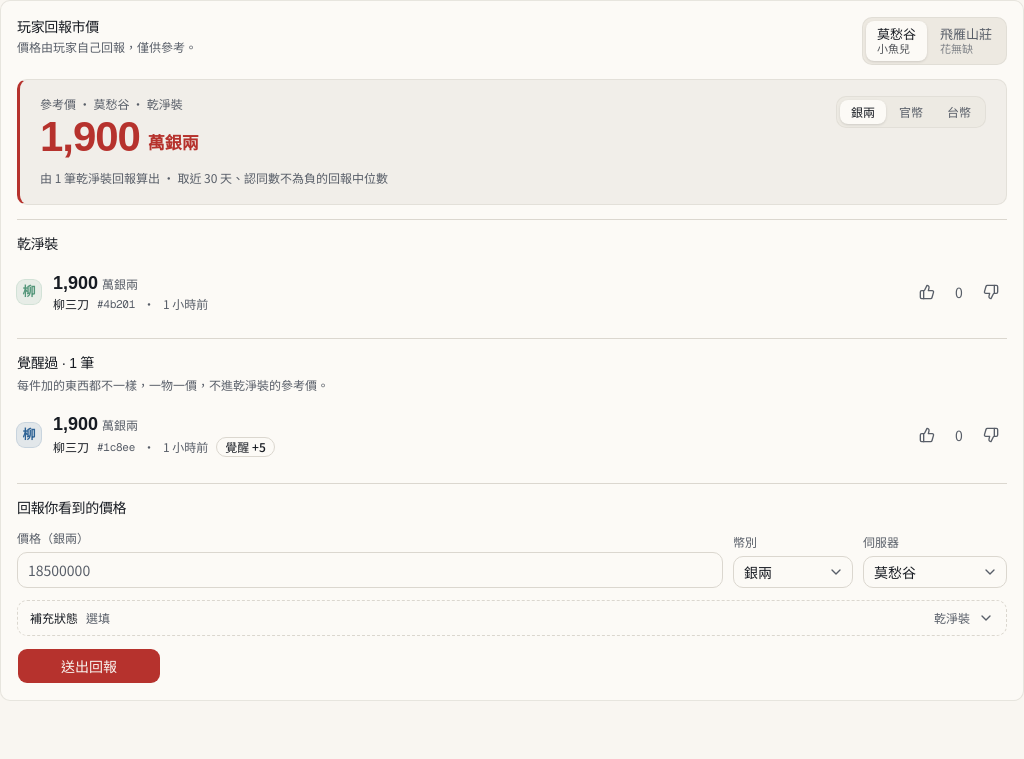
it: MarketPriceSection 的補充狀態 › 坐騎這種沒有強化槽的，那一區叫覺醒過，表單也不問強化
This screenshot has width=1024, height=759.
Expected: the heading "覺醒過 · 1 筆" is shown, [17, 355, 94, 371]
What coordinates should you click on to do the following:
click the button "補充狀態 選填 乾淨裝"
I would click on:
 (54, 618)
Its box is [17, 600, 1007, 636].
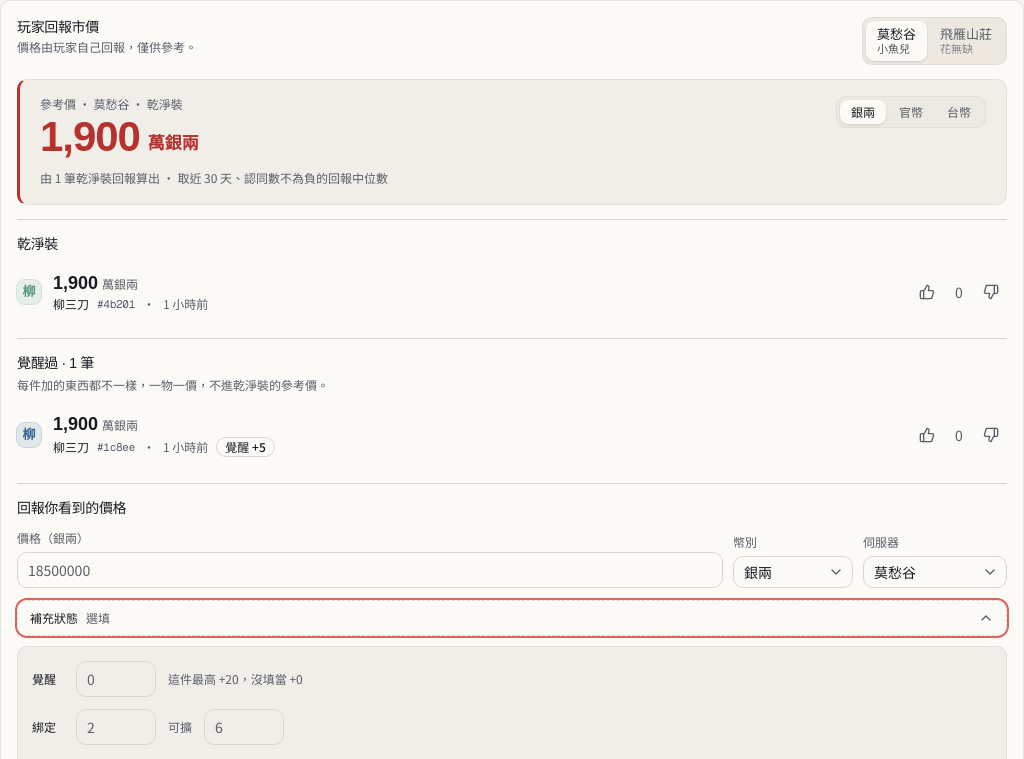
Now the number field labelled "覺醒" is shown, box [76, 661, 156, 697]
